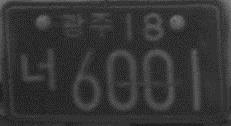0: (141, 48, 177, 112), (106, 48, 138, 112)
1: (188, 45, 205, 113), (123, 11, 136, 44)
6: (71, 52, 102, 113)
8: (142, 11, 165, 42)
광주_O: (61, 10, 115, 40)
너: (18, 46, 56, 94)
